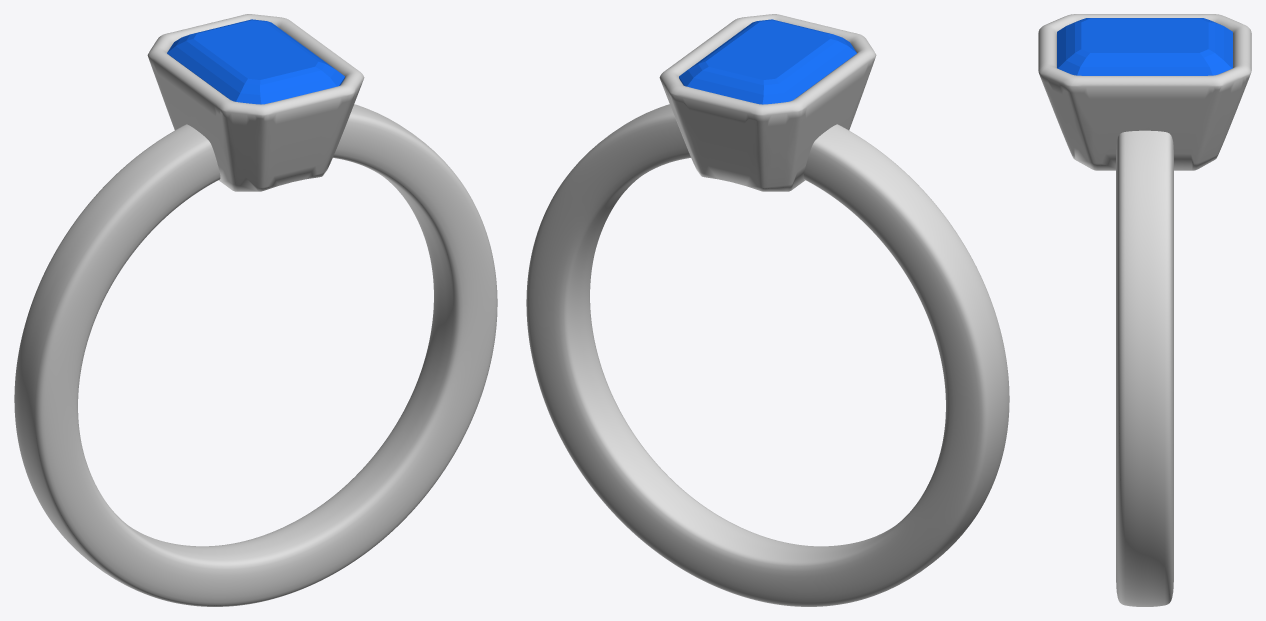
The model's file is bluesapphire-emerald-platinum-bezelset-straightband-solitaire.glb.
3 renders of one model, left to right at view 1: azimuth 30°, elevation 25°; view 2: azimuth 150°, elevation 25°; view 3: azimuth 270°, elevation 25°, orthographic.
Parts seen in each view (by area): view 1: metal.001, stone; view 2: metal.001, stone; view 3: metal.001, stone.
Boxes of the visible parts, <box> form: metal.001: <box>14,14,497,606</box>; stone: <box>167,19,344,104</box>; metal.001: <box>526,14,1009,606</box>; stone: <box>679,19,856,104</box>; metal.001: <box>1038,14,1251,606</box>; stone: <box>1057,18,1232,75</box>.
Bounding box in the file's own units: 20.5 × 22.95 × 8.11.
